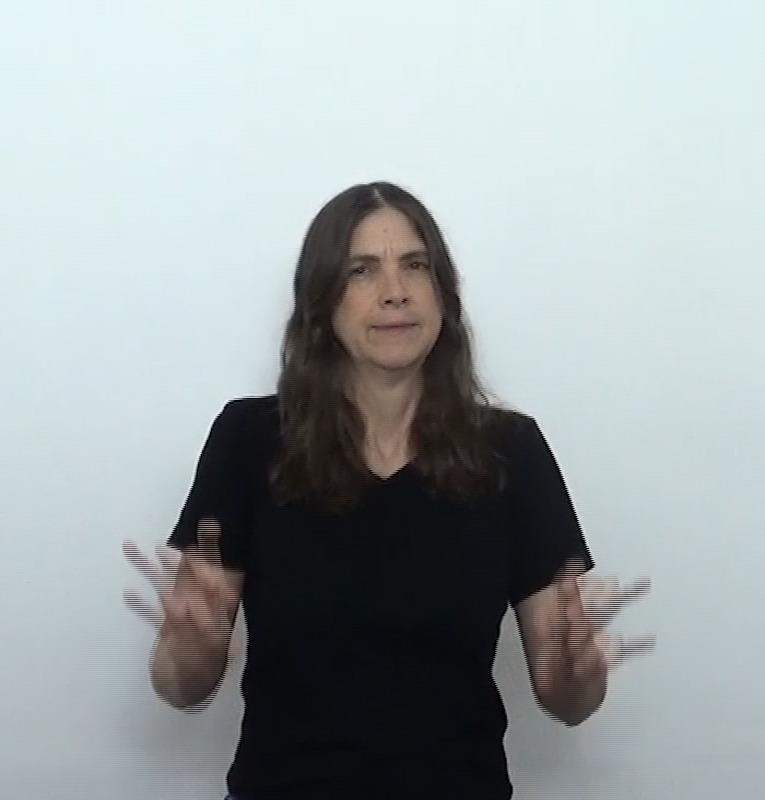Dolor: (72, 140, 682, 734)
